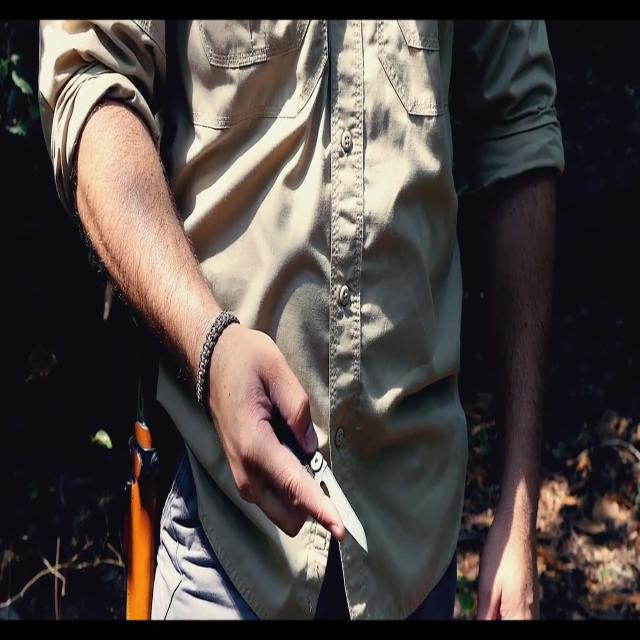knife: (311, 448, 373, 558)
